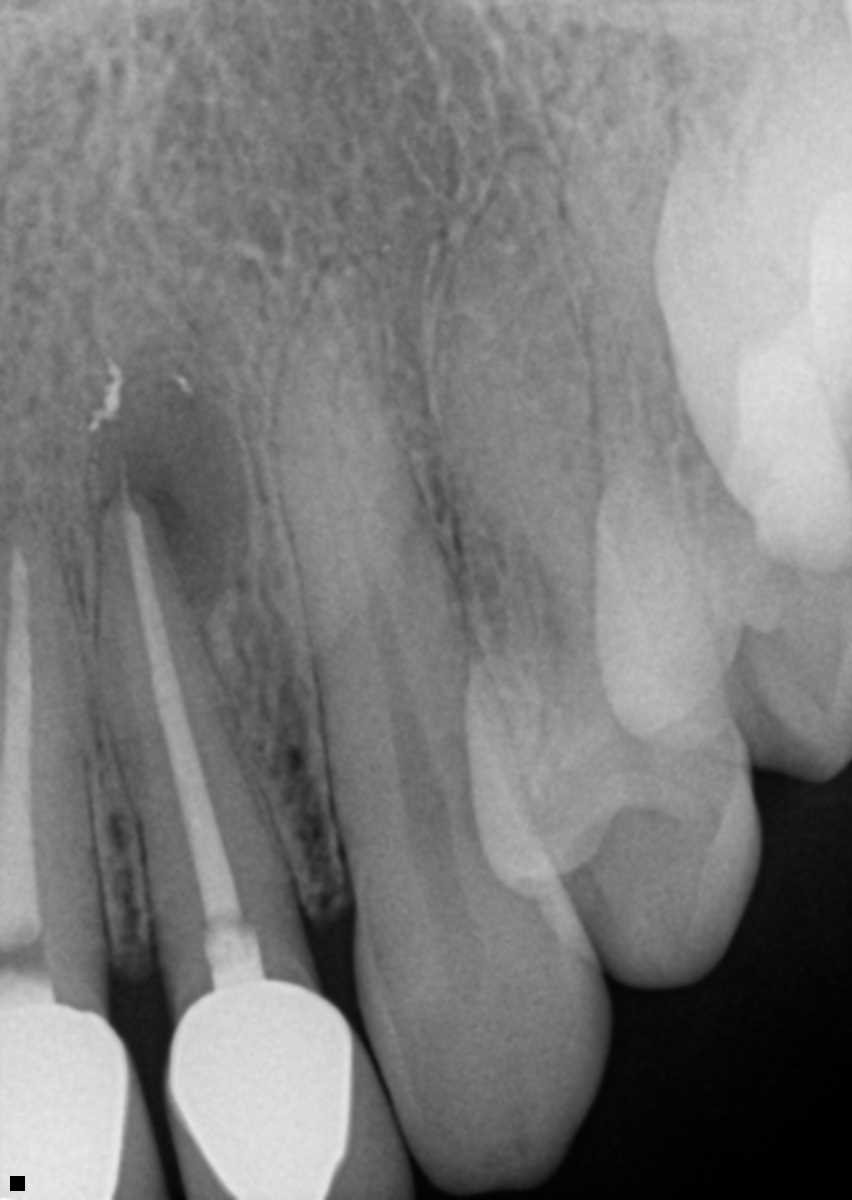Apical Lesion: (76, 375, 247, 602)
Main Canal: (329, 338, 451, 855)
Main Root: (270, 246, 527, 872), (435, 142, 711, 717), (573, 29, 852, 564), (96, 488, 296, 933), (0, 513, 109, 969)
Root Canal Filling: (125, 499, 252, 917), (0, 557, 42, 949)
